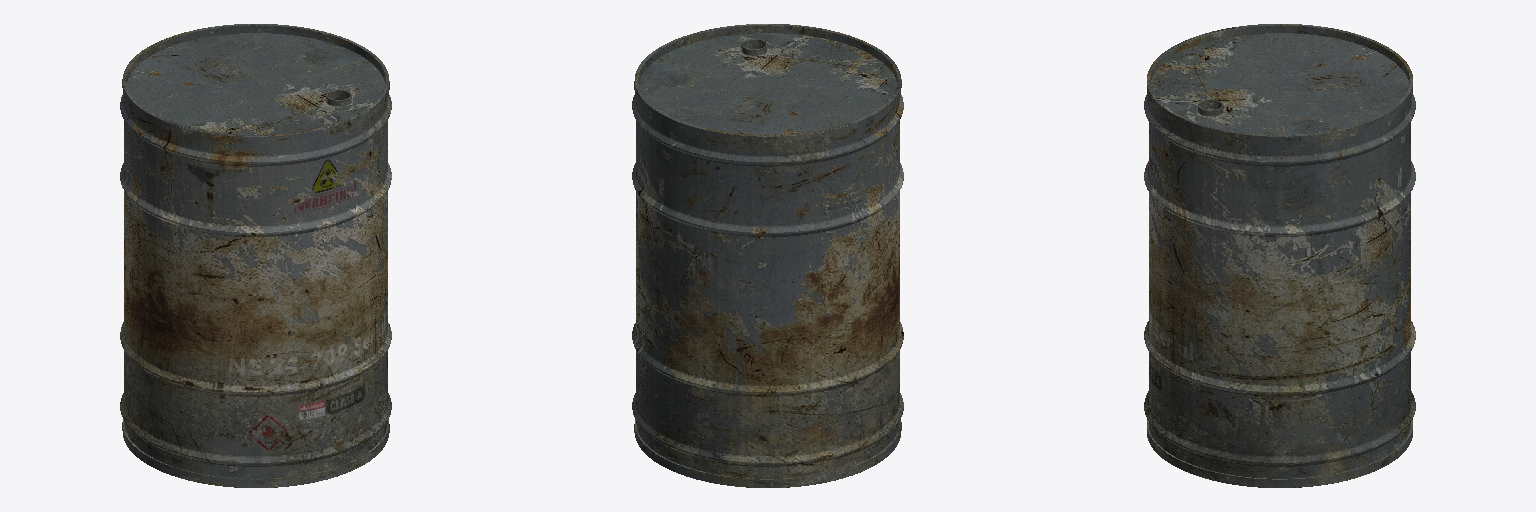
3 views of the same model, side by side, from view 1: azimuth 30°, elevation 25°; view 2: azimuth 150°, elevation 25°; view 3: azimuth 270°, elevation 25° (orthographic).
Parts seen in each view (by area): view 1: Barrel; view 2: Barrel; view 3: Barrel.
Part boxes in pixels (x1,y1,x2,y2): Barrel: (120,24,391,487); Barrel: (632,24,903,487); Barrel: (1144,24,1415,487).
Size of the model in its own units: 98.08 by 140 by 97.98.
Materials: 3 (2 with a texture image).